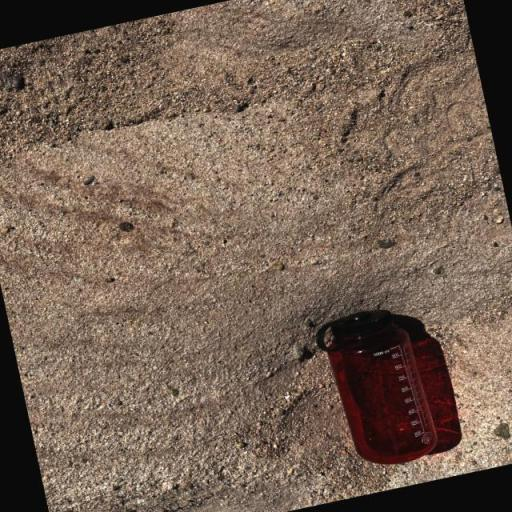bottle: (312, 301, 441, 475)
